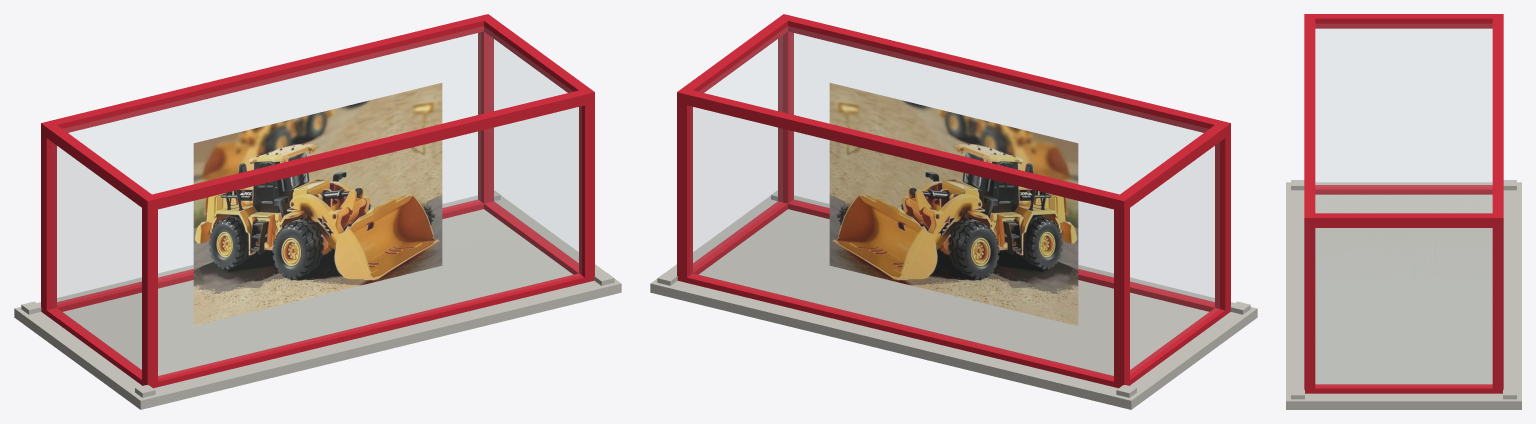
The model's file is 6-uildeltei-kovsh.glb.
3 views of the same model, side by side, from view 1: azimuth 30°, elevation 25°; view 2: azimuth 150°, elevation 25°; view 3: azimuth 270°, elevation 25° (orthographic). The views are drawn at different scales.
Bounding box in the file's own units: 0.33 × 0.1295 × 0.15.
4 materials, 1 textured.
